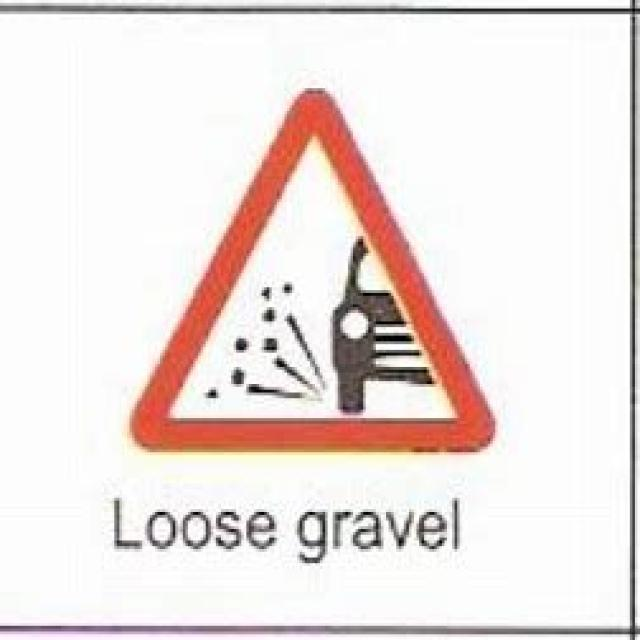loose gravel: (123, 82, 498, 458)
